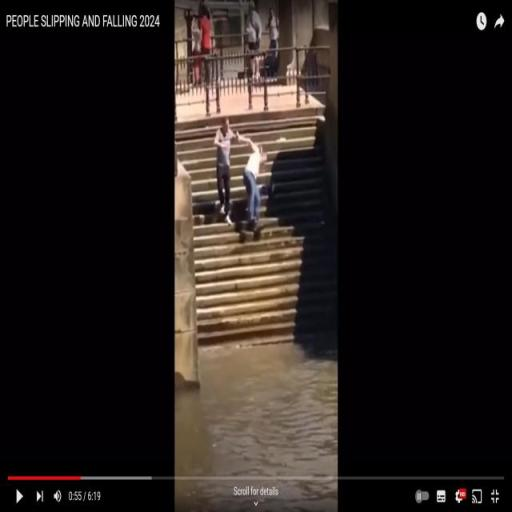Fall: (236, 125, 269, 239)
